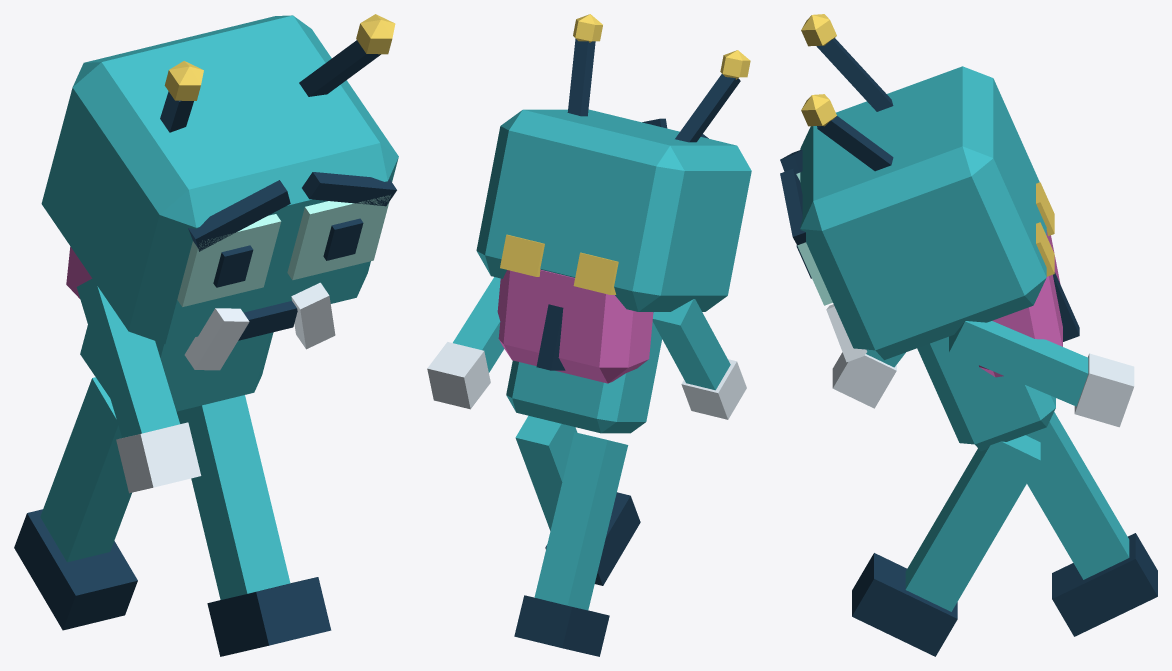
Rendered from scout_r12.glb.
The picture shows the model from 3 angles, left to right: view 1: azimuth 30°, elevation 25°; view 2: azimuth 150°, elevation 25°; view 3: azimuth 270°, elevation 25°; orthographic projection. The views are drawn at different scales.
Visible parts, largest first — view 1: scout_r12_mesh; view 2: scout_r12_mesh; view 3: scout_r12_mesh.
Part boxes in pixels (<box>): scout_r12_mesh: <box>14,14,398,656</box>; scout_r12_mesh: <box>427,14,751,656</box>; scout_r12_mesh: <box>780,14,1157,656</box>.
Bounding box in the file's own units: 0.4403 × 1.2 × 0.7026.
1 material, 1 textured.
